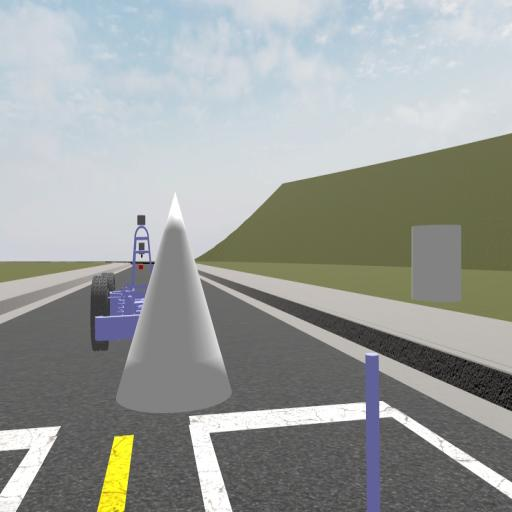ERP-42: (89, 214, 154, 352)
